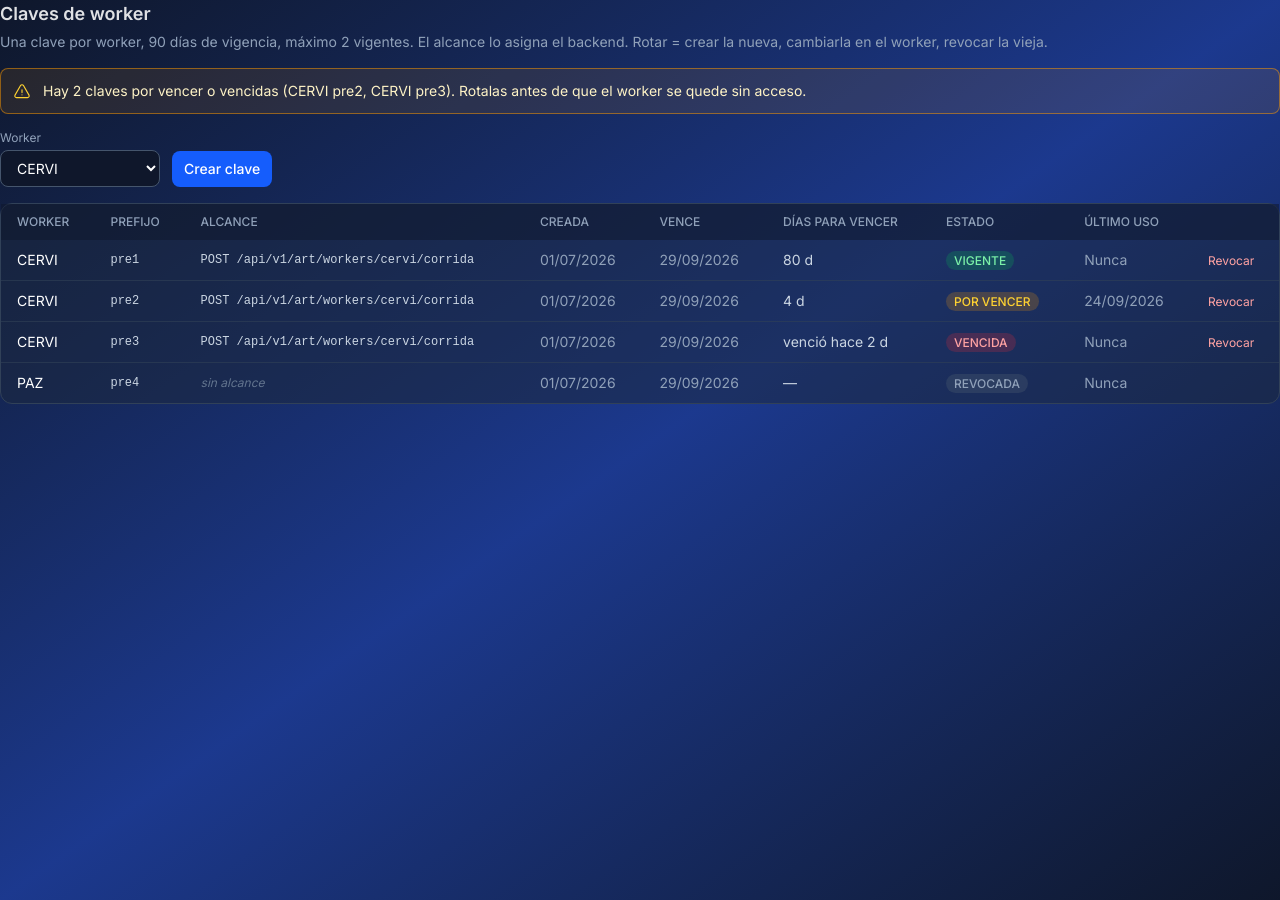
alta › manda sólo {worker_nombre} con el worker elegido
Check: the text "pre1" is shown, box x1=94 y1=240 x2=185 y2=280
Select "VALENTINI" in the dropdown labelled "Worker" at (80, 168), box x1=0 y1=150 x2=160 y2=187
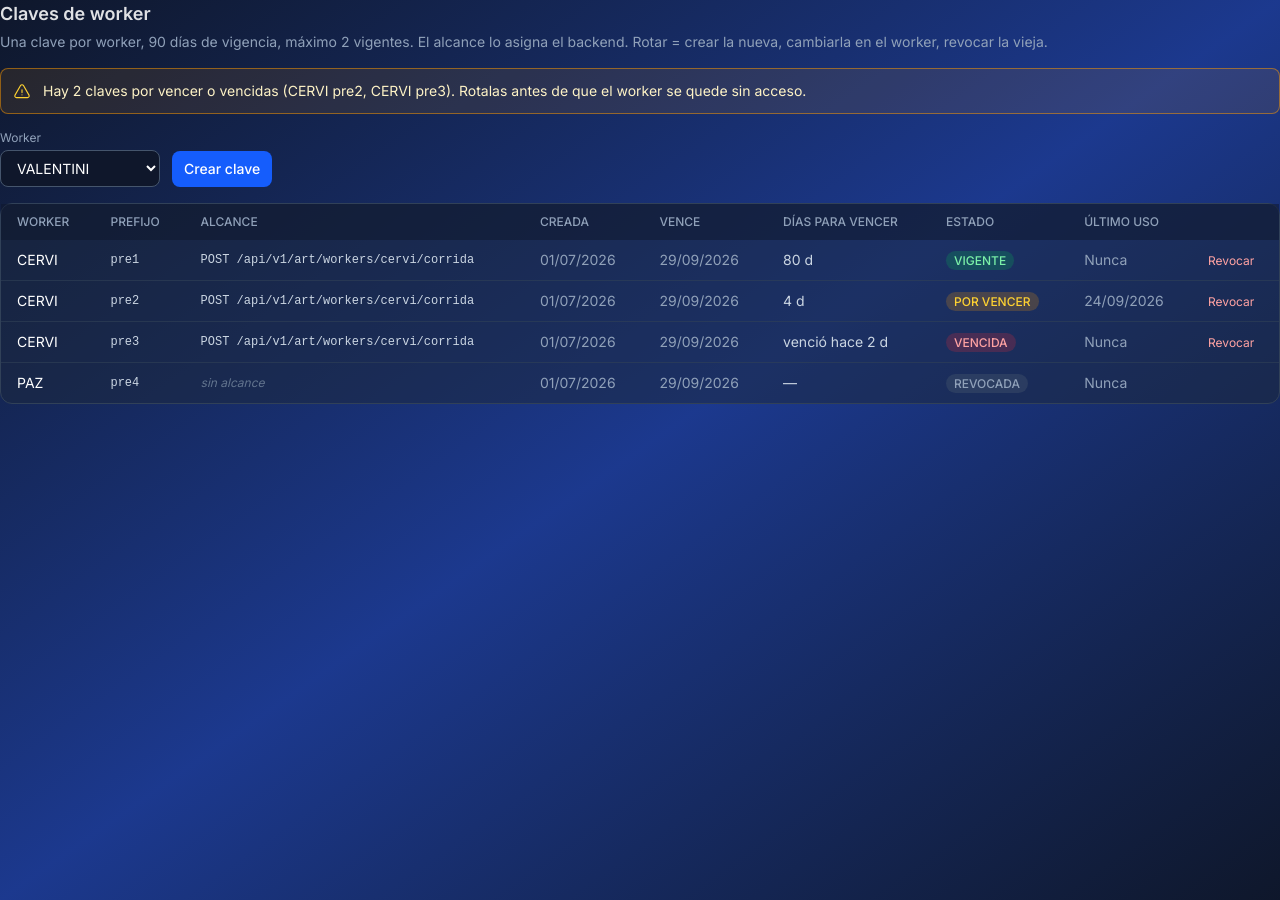
Click the button "Crear clave".
click(222, 169)  # box x1=172 y1=151 x2=272 y2=187
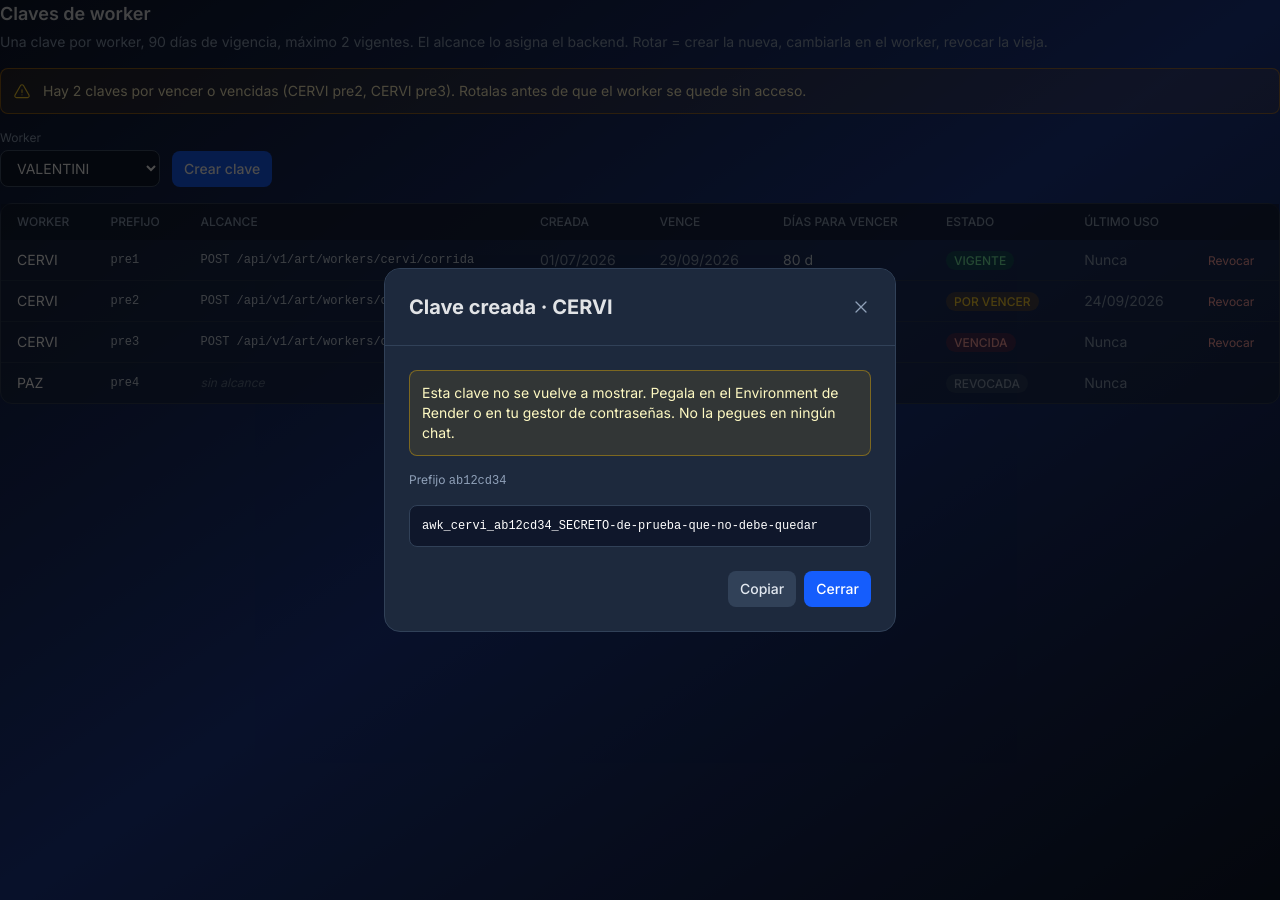
Check: the text "awk_cervi_ab12cd34_SECRETO-de-prueba-que-no-debe-quedar" is shown, box x1=409 y1=505 x2=871 y2=547
